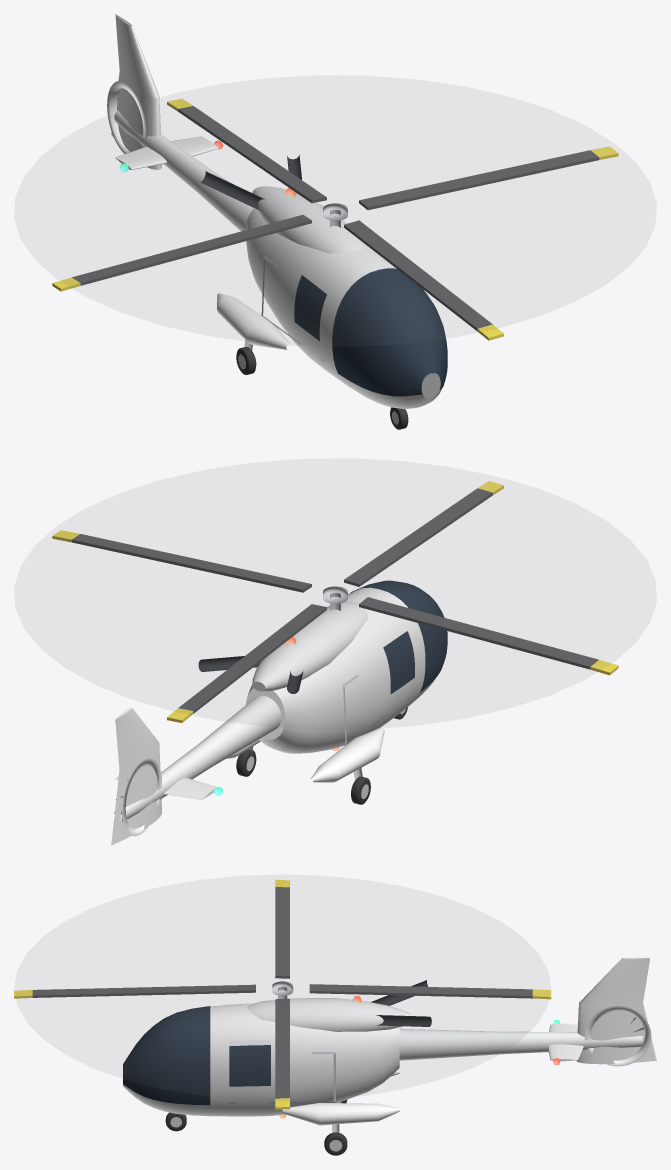
3 renders of one model, top to bottom at view 1: azimuth 30°, elevation 25°; view 2: azimuth 150°, elevation 25°; view 3: azimuth 270°, elevation 25°, orthographic. The views are drawn at different scales.
Parts seen in each view (by area): view 1: airframe, rotor; view 2: airframe, rotor; view 3: airframe, rotor.
Part boxes in pixels (<box>): airframe: <box>107,14,447,429</box>; rotor: <box>52,98,618,340</box>; airframe: <box>111,580,447,845</box>; rotor: <box>52,481,618,722</box>; airframe: <box>123,957,656,1155</box>; rotor: <box>14,879,551,1109</box>.
Size of the model in its own units: 11.9 by 4.23 by 14.24.
